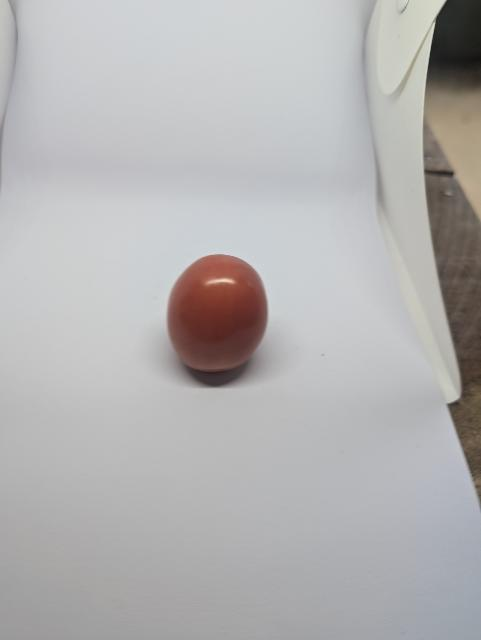red: (155, 249, 280, 384)
